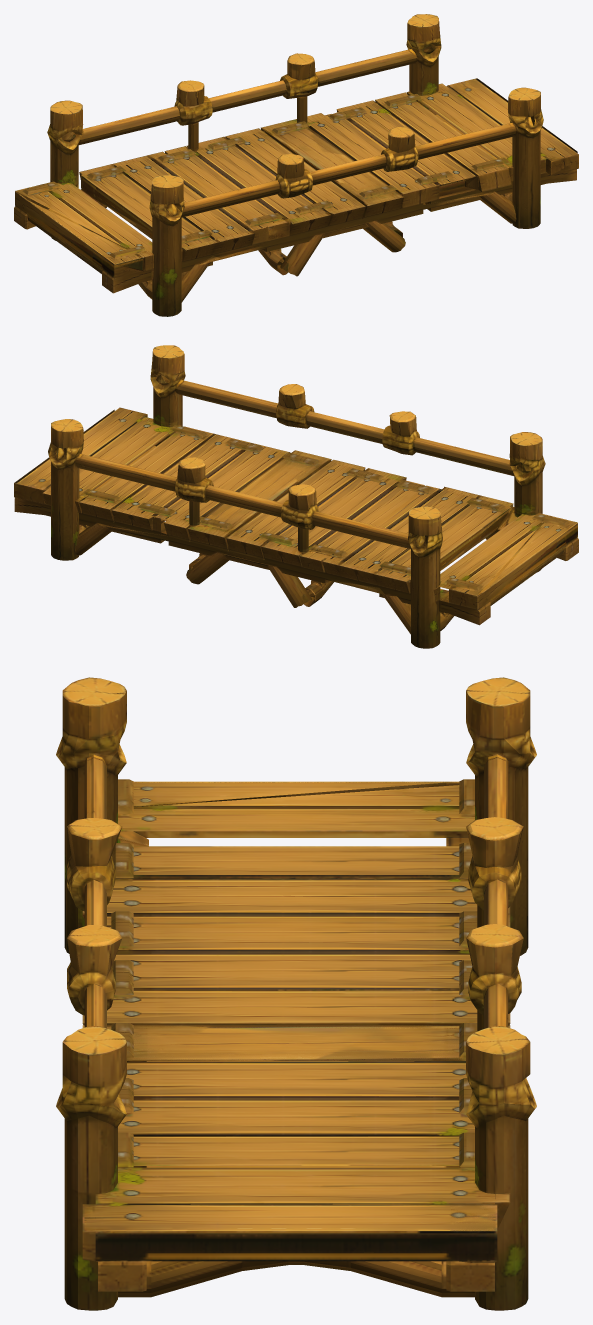
File: Meshy_AI_Timber_Plank_Bridge_0701151412_texture.fbx
3 renders of one model, top to bottom at view 1: azimuth 30°, elevation 25°; view 2: azimuth 150°, elevation 25°; view 3: azimuth 270°, elevation 25°, orthographic. The views are drawn at different scales.
Parts seen in each view (by area): view 1: temp; view 2: temp; view 3: temp.
Part boxes in pixels (box(x1,y1,x2,y2)): temp: box(14, 14, 578, 316); temp: box(14, 345, 578, 648); temp: box(56, 677, 536, 1310).
Bounding box in the file's own units: 189 × 50.1 × 84.93.
1 material, 1 textured.
